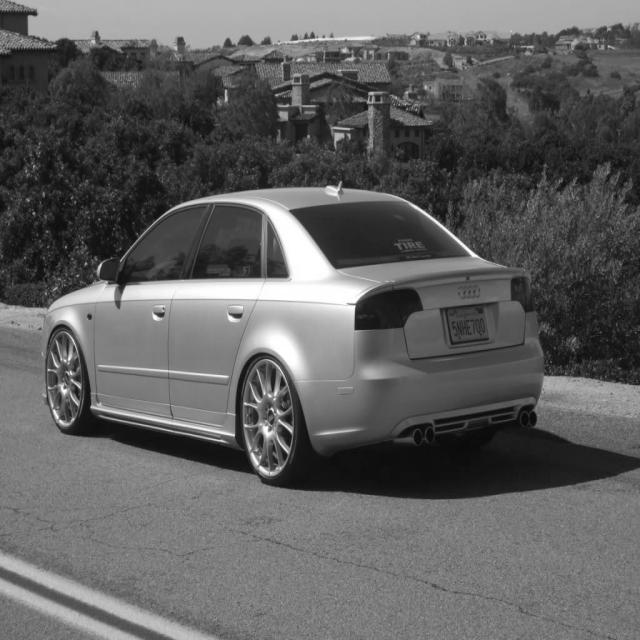car: (40, 181, 545, 486)
plat_license: (444, 306, 490, 345)
